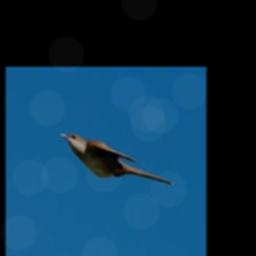Cuckoo: (59, 132, 173, 186)
